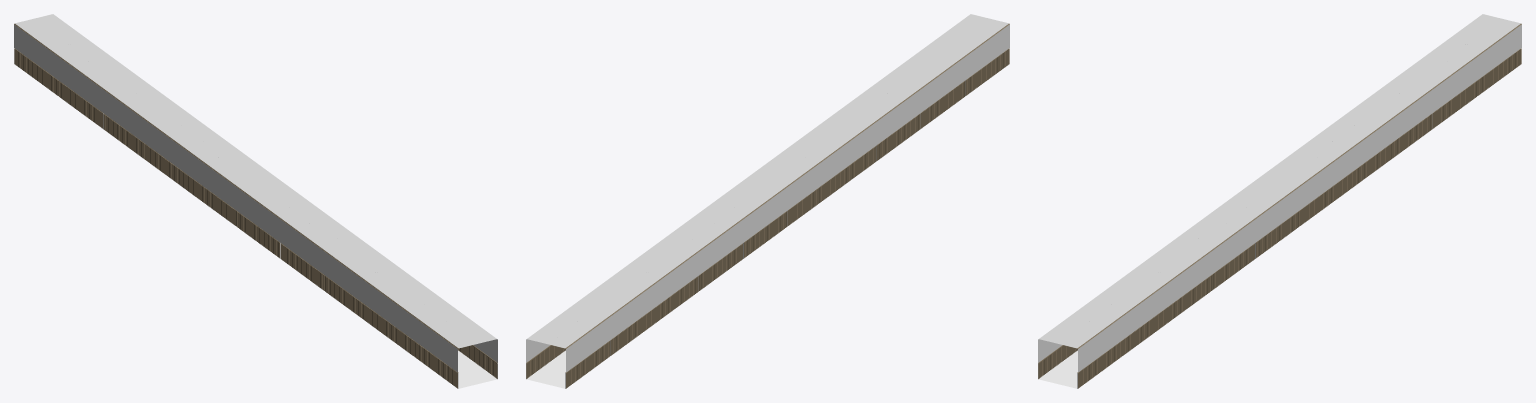
3 renders of one model, left to right at view 1: azimuth 30°, elevation 25°; view 2: azimuth 150°, elevation 25°; view 3: azimuth 330°, elevation 25°, orthographic.
Visible parts, largest first — view 1: Plane.001, Plane, Circle.001; view 2: Plane.001, Plane, Circle.001; view 3: Plane.001, Plane, Circle.001.
Part boxes in pixels (x1,y1,x2,y2): Plane.001: (14, 14, 497, 388); Plane: (40, 83, 496, 388); Circle.001: (40, 25, 471, 337); Plane.001: (526, 14, 1009, 388); Plane: (527, 83, 983, 388); Circle.001: (552, 25, 983, 337); Plane.001: (1038, 14, 1521, 388); Plane: (1039, 83, 1495, 388); Circle.001: (1064, 25, 1495, 337).
Bounding box in the file's own units: 3.1 × 3 × 59.86.
